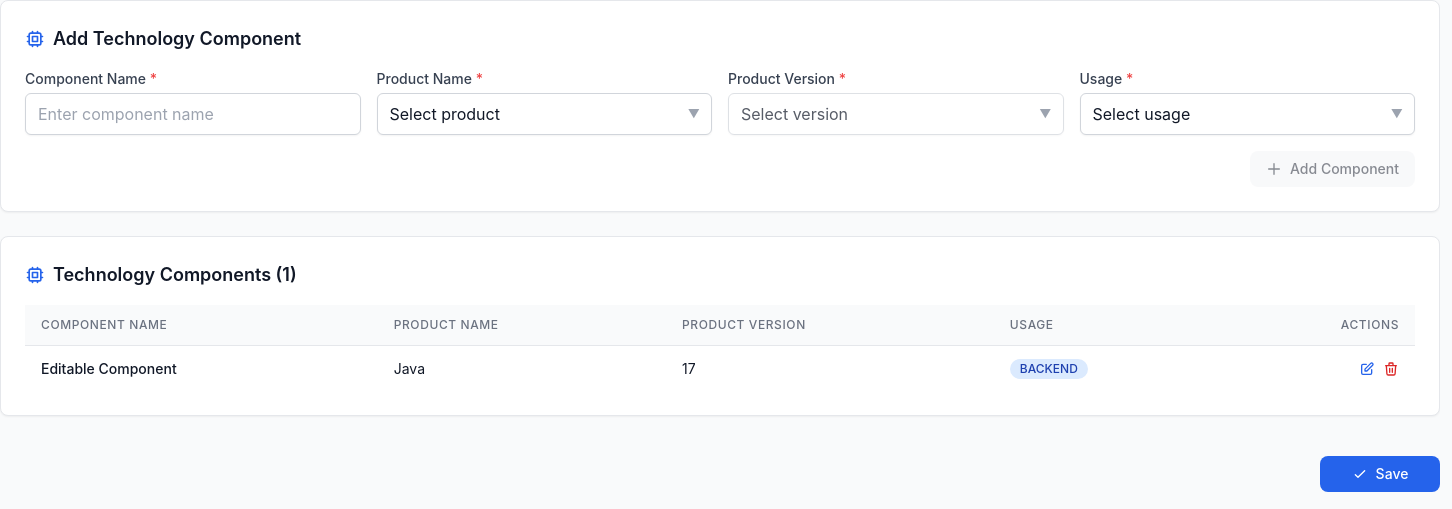
Test case: TechnologyComponentStep › Edit Functionality › enters edit mode when edit button is clicked
Expected: the text "Editable Component" is shown, [25, 346, 378, 391]
Expected: the cell "Java" is shown, [378, 346, 666, 391]
Click the button named "Edit" at x=1367, y=368, box [1359, 360, 1375, 376]
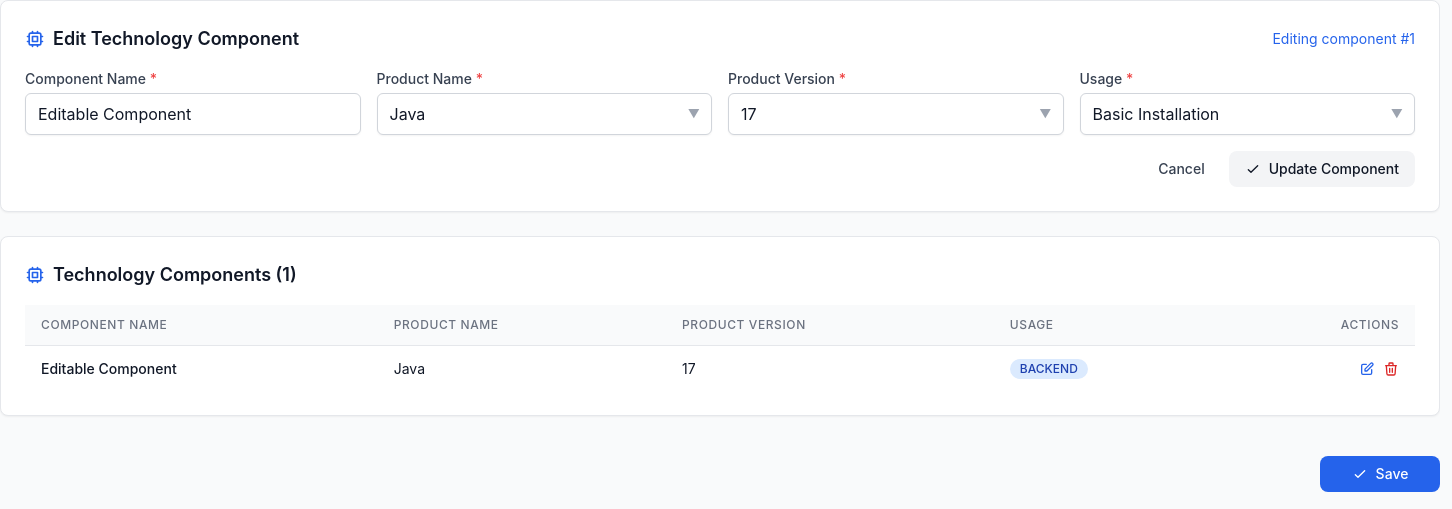
Expected: the field showing "Editable Component" is shown, [25, 93, 360, 135]
